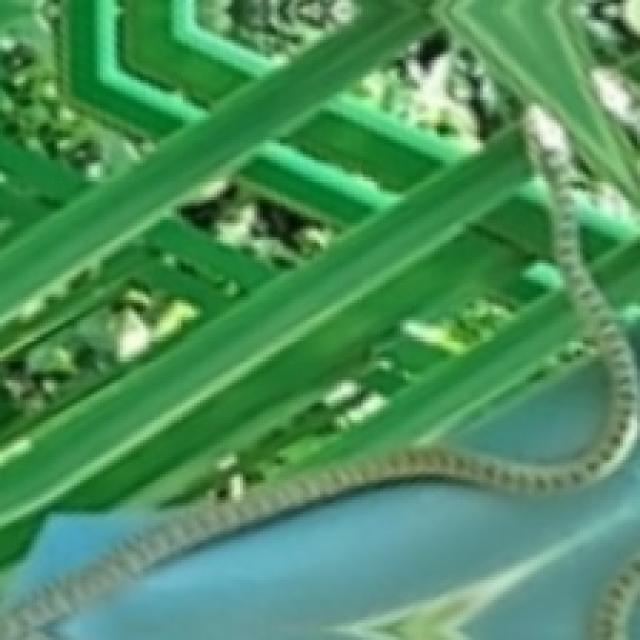paradise tree snake: (0, 0, 637, 637), (0, 143, 634, 637), (3, 131, 529, 511), (357, 317, 609, 463), (337, 497, 597, 637), (460, 486, 540, 511)
